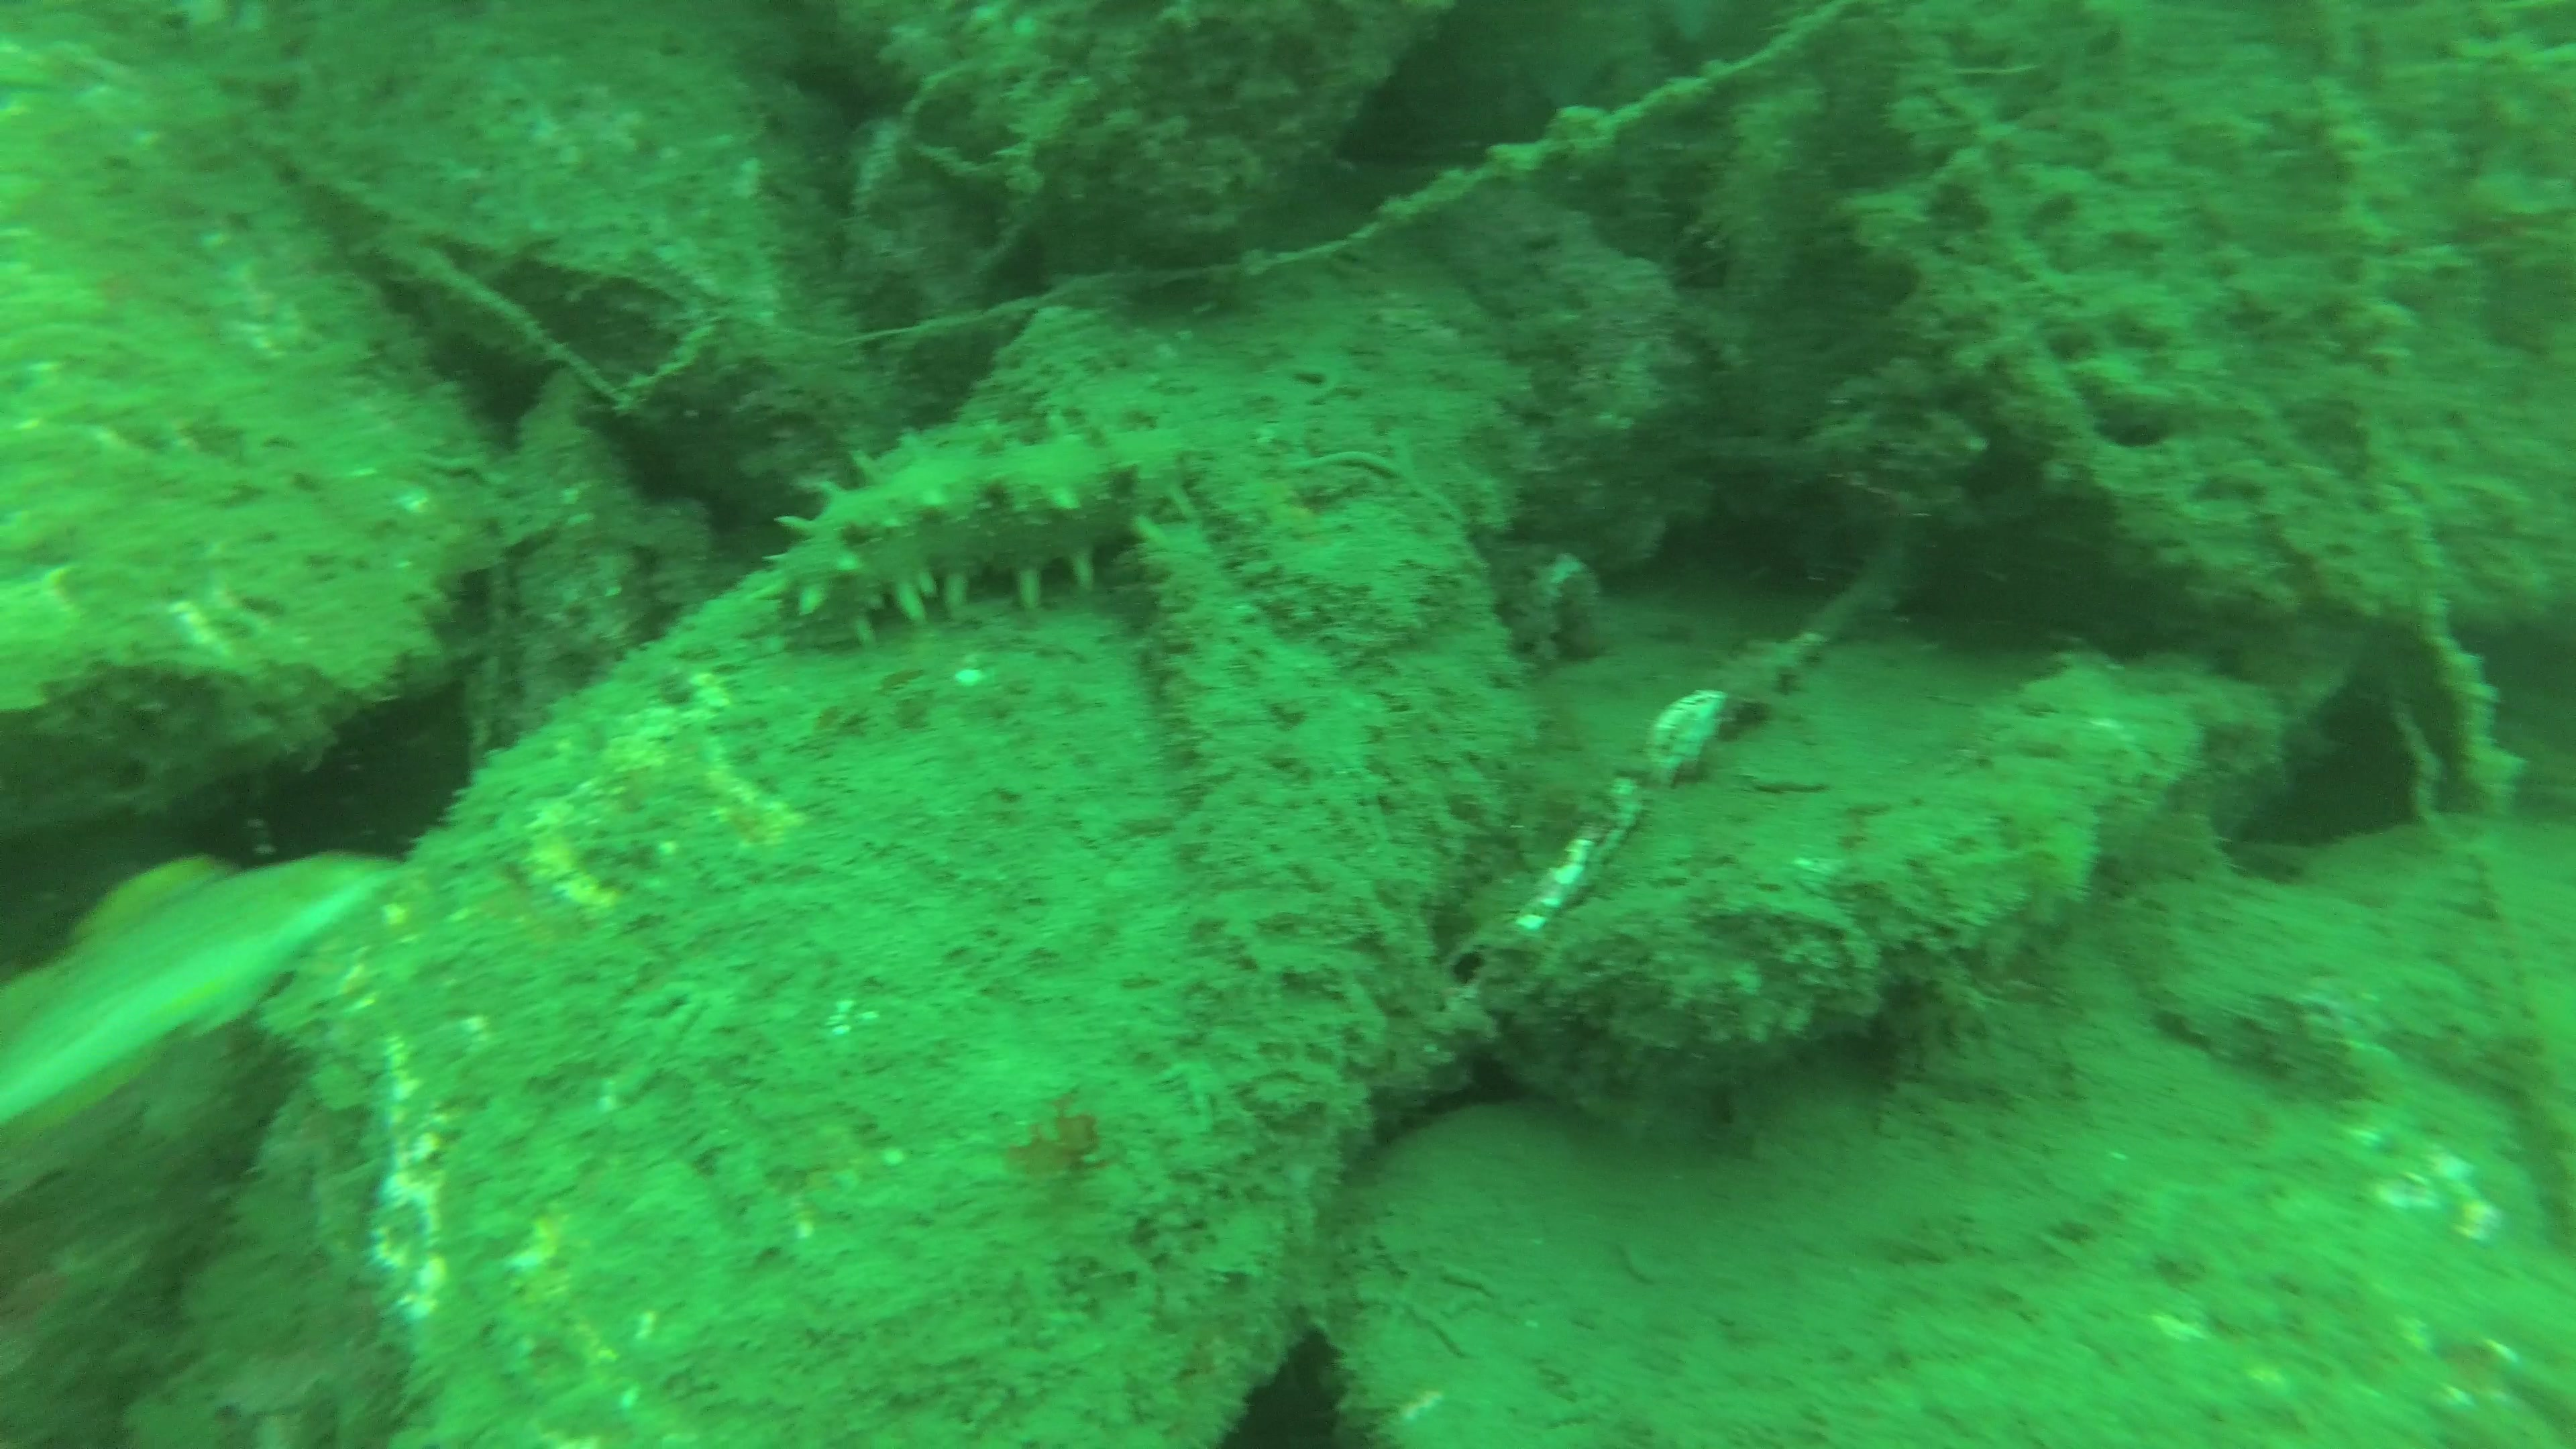holothurian: (747, 412, 1221, 648)
